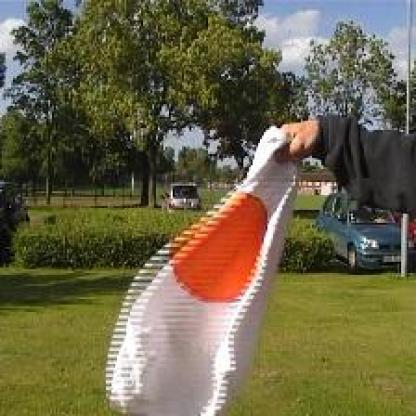other: (161, 184, 277, 304)
